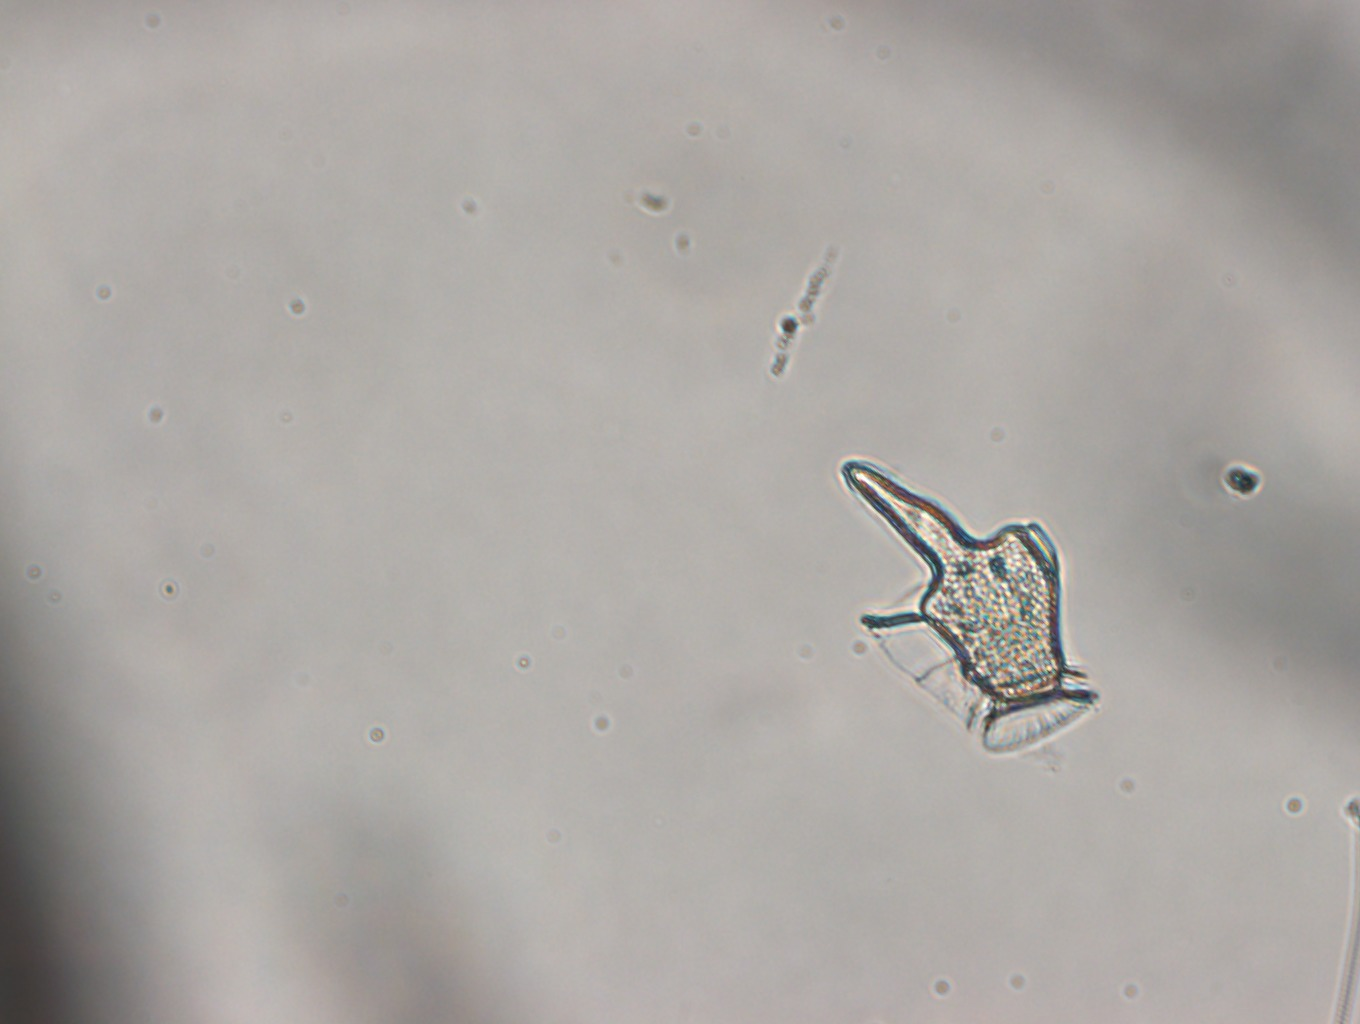dinophysis caudata: (838, 455, 1100, 757)
